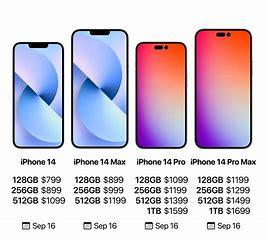-iphone: (7, 8, 259, 157), (192, 22, 256, 153), (67, 26, 131, 153), (10, 36, 67, 152), (134, 39, 190, 149)
-iphone13: (7, 16, 258, 156), (191, 26, 255, 151)
